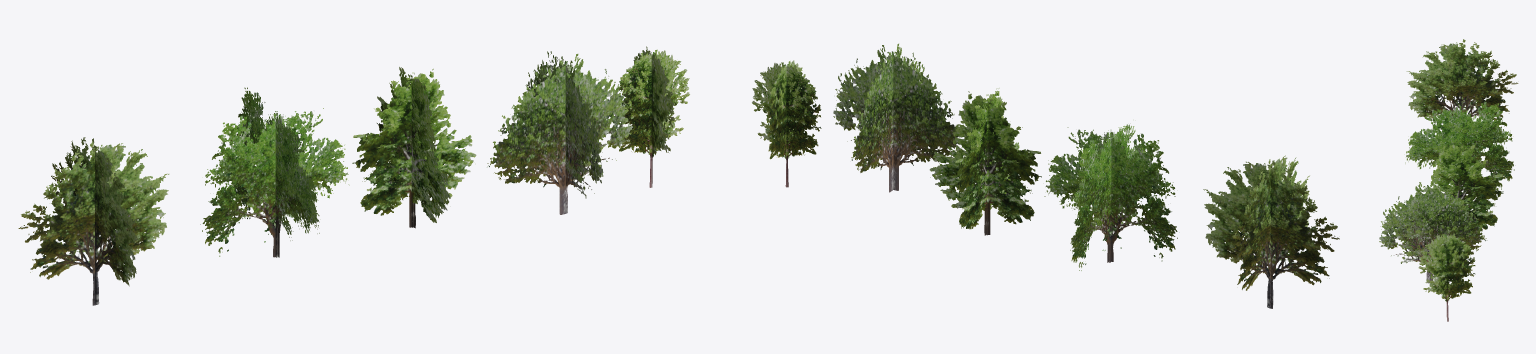
The model's file is trees.fbx.
The picture shows the model from 3 angles, left to right: view 1: azimuth 30°, elevation 25°; view 2: azimuth 150°, elevation 25°; view 3: azimuth 270°, elevation 25°; orthographic projection. The views are drawn at different scales.
Parts seen in each view (by area): view 1: polySurface19, polySurface16, polySurface3, polySurface8, pPlane6; view 2: polySurface19, polySurface16, polySurface3, polySurface8, pPlane6; view 3: polySurface19, polySurface3, polySurface16, polySurface8, pPlane6.
Boxes of the visible parts, x1,y1,x2,y2 form: polySurface19: (18,137,169,305); polySurface16: (200,87,349,257); polySurface3: (487,51,632,214); polySurface8: (352,67,476,228); pPlane6: (619,46,689,187); polySurface19: (1203,155,1339,308); polySurface16: (1044,123,1177,270); polySurface3: (833,43,962,192); polySurface8: (929,88,1041,235); pPlane6: (752,60,821,187); polySurface19: (1406,39,1518,119); polySurface3: (1379,182,1487,283); polySurface16: (1405,101,1514,191); polySurface8: (1415,143,1503,231); pPlane6: (1418,233,1475,321).
Size of the model in its own units: 28.07 by 6.93 by 8.28.
